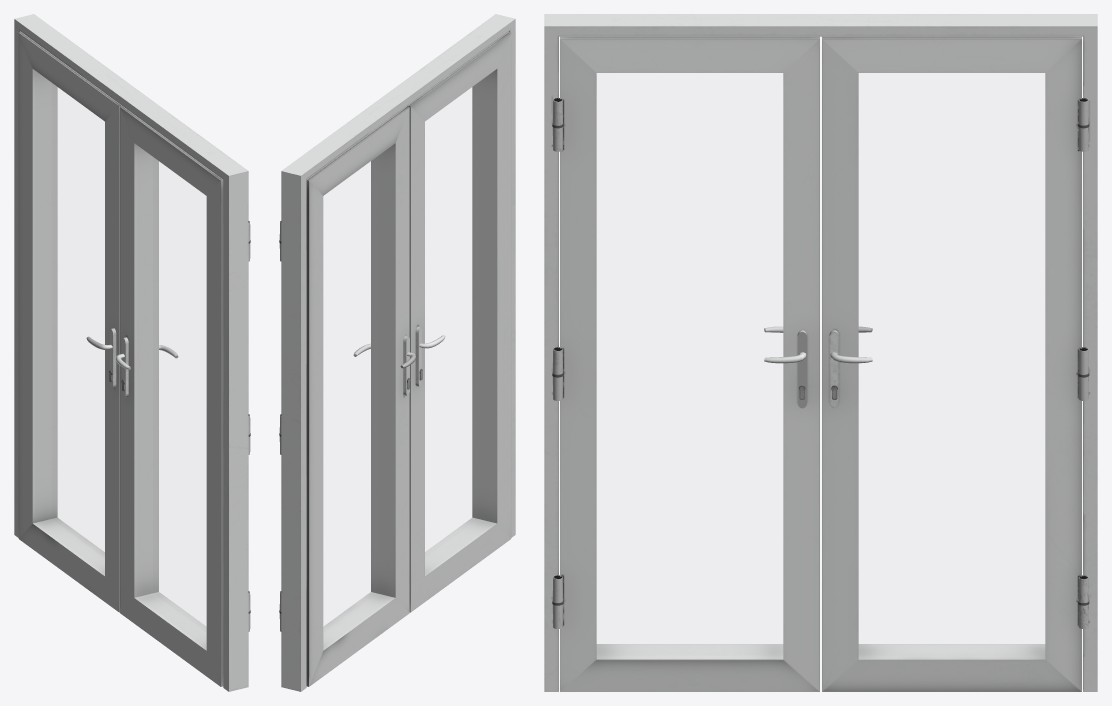
Rendered from door.gltf.
3 views of the same model, side by side, from view 1: azimuth 30°, elevation 25°; view 2: azimuth 150°, elevation 25°; view 3: azimuth 270°, elevation 25° (orthographic). The views are drawn at different scales.
Parts seen in each view (by area): view 1: doors_low, frame_low, handleFrameRight_low, handleFrameLeft_low; view 2: doors_low, frame_low, handleFrameLeft_low; view 3: doors_low, frame_low.
Part boxes in pixels (x1,y1,x2,y2): doors_low: (18,32,223,686); frame_low: (14,14,248,691); handleFrameRight_low: (109,328,116,388); handleFrameLeft_low: (121,337,128,397); doors_low: (306,32,511,686); frame_low: (281,14,515,691); handleFrameLeft_low: (415,327,422,386); doors_low: (560,36,1081,691); frame_low: (544,14,1097,691).
Bounding box in the file's own units: 0.2289 × 2.11 × 1.59.
Materials: 2 (2 with a texture image).
